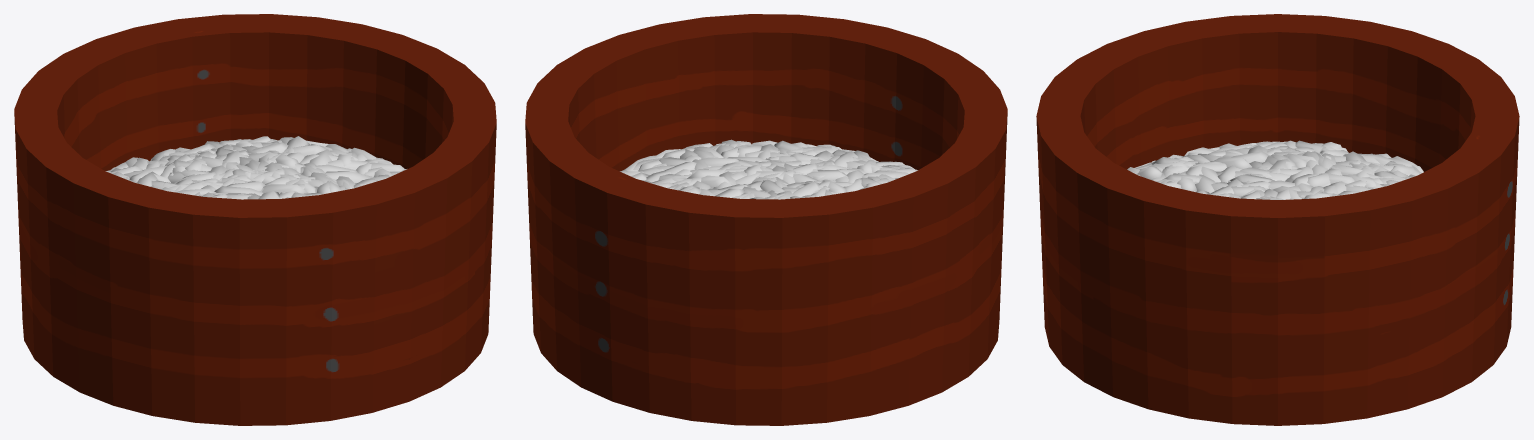
Rendered from foodStorage.fbx.
3 renders of one model, left to right at view 1: azimuth 30°, elevation 25°; view 2: azimuth 150°, elevation 25°; view 3: azimuth 270°, elevation 25°, orthographic.
Parts seen in each view (by area): view 1: Container, Rice; view 2: Container, Rice; view 3: Container, Rice.
Boxes of the visible parts, bbox=[...] form: Container: bbox=[14, 14, 496, 425]; Rice: bbox=[105, 136, 406, 199]; Container: bbox=[525, 14, 1007, 425]; Rice: bbox=[620, 139, 917, 199]; Container: bbox=[1036, 14, 1519, 425]; Rice: bbox=[1127, 140, 1423, 199].
Size of the model in its own units: 270 by 130 by 270.
Materials: 2 (1 with a texture image).
